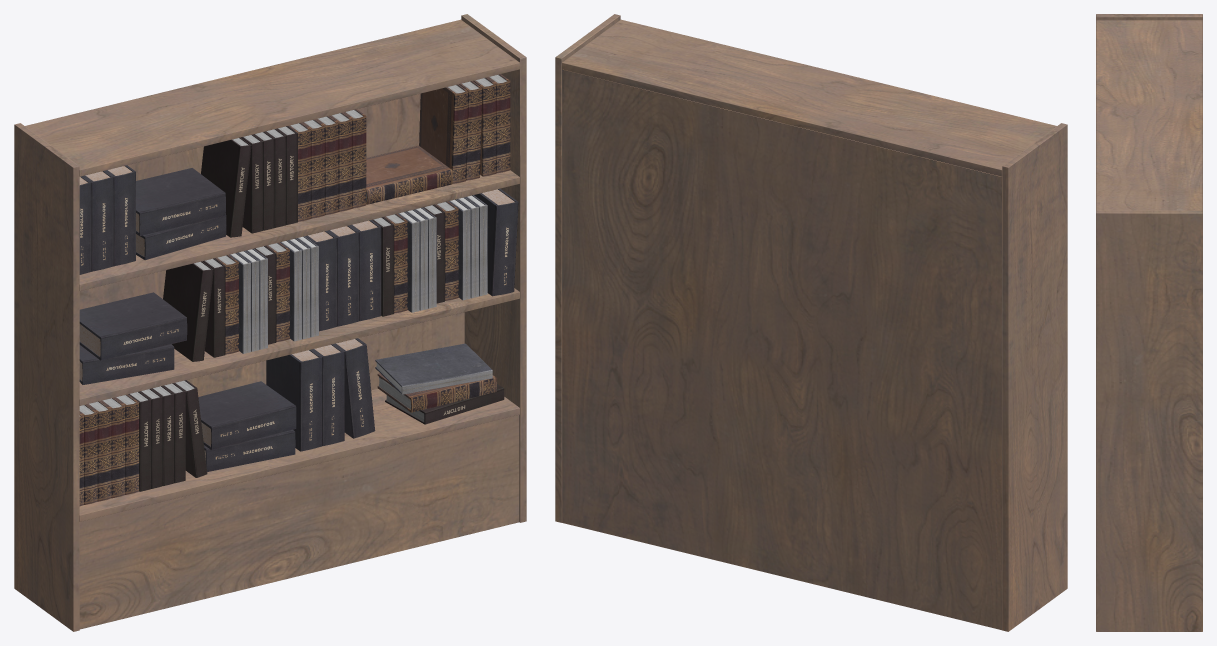
3 views of the same model, side by side, from view 1: azimuth 30°, elevation 25°; view 2: azimuth 150°, elevation 25°; view 3: azimuth 270°, elevation 25° (orthographic). The views are drawn at different scales.
Parts seen in each view (by area): view 1: book_shelf.Shape; view 2: book_shelf.Shape; view 3: book_shelf.Shape.
Boxes of the visible parts, bbox=[...] form: book_shelf.Shape: bbox=[14, 14, 526, 631]; book_shelf.Shape: bbox=[555, 14, 1067, 631]; book_shelf.Shape: bbox=[1096, 14, 1202, 631].
Bounding box in the file's own units: 1.01 × 0.9838 × 0.2272.
Materials: 2 (2 with a texture image).
